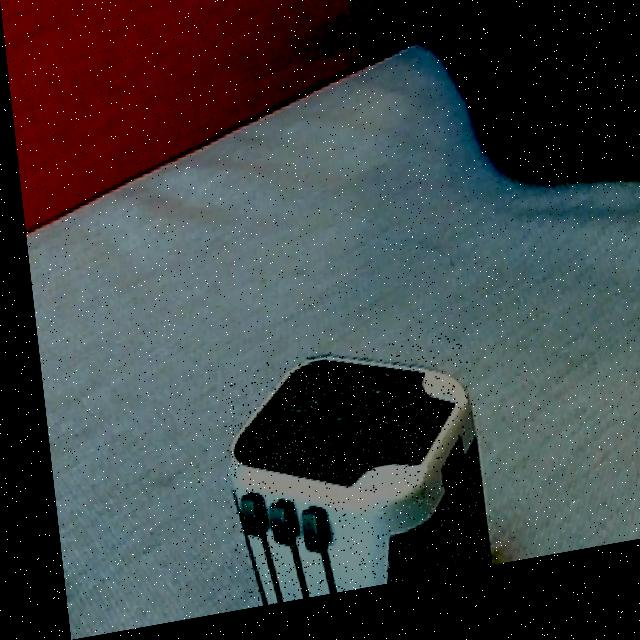adapter: (206, 343, 478, 616)
